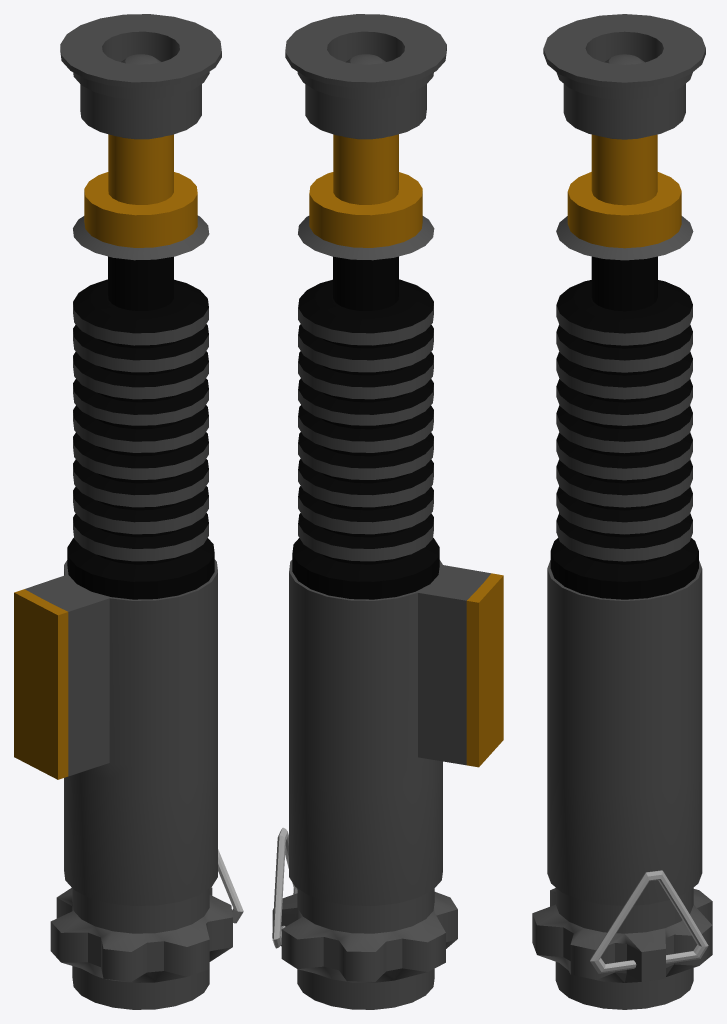
The model's file is LightSaberGrip.fbx.
The picture shows the model from 3 angles, left to right: view 1: azimuth 30°, elevation 25°; view 2: azimuth 150°, elevation 25°; view 3: azimuth 270°, elevation 25°; orthographic projection.
Parts seen in each view (by area): view 1: polySurface2; view 2: polySurface2; view 3: polySurface2.
Boxes of the visible parts, <box> form: polySurface2: <box>14,14,243,1009</box>; polySurface2: <box>272,14,503,1009</box>; polySurface2: <box>532,14,712,1009</box>.
Size of the model in its own units: 3.07 by 13.28 by 2.32.
